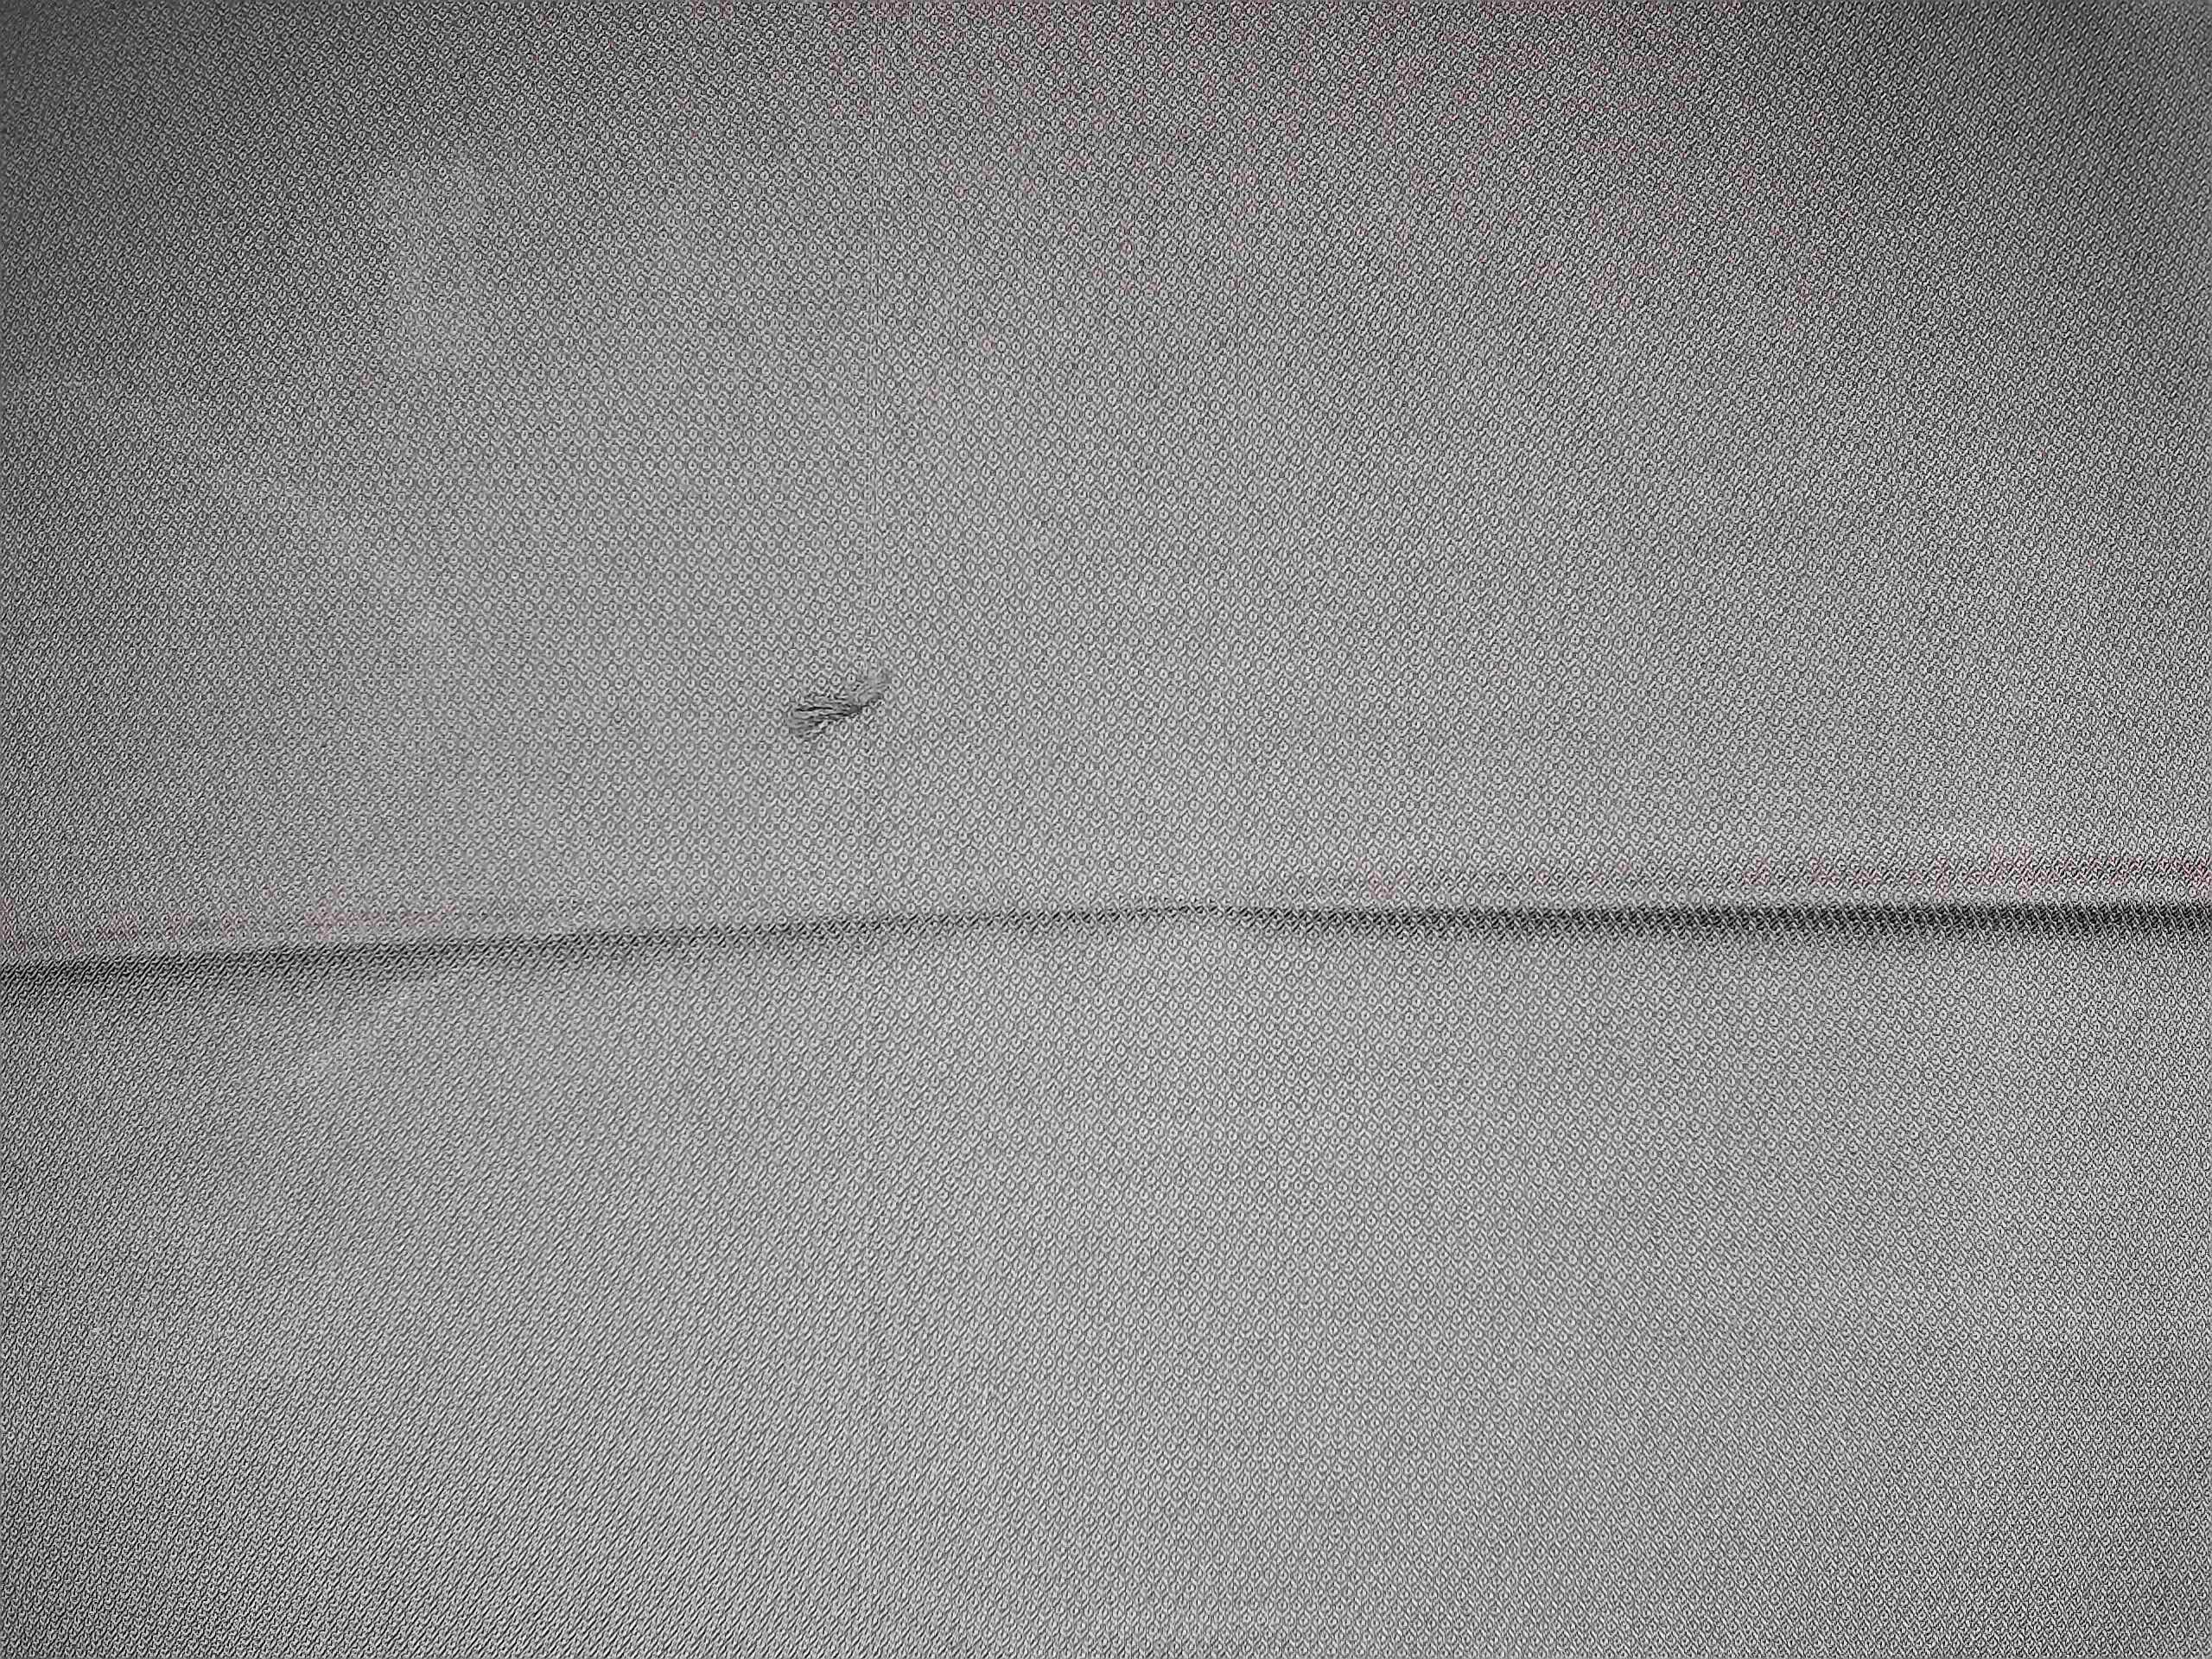hanging-warp: (773, 617, 909, 786)
